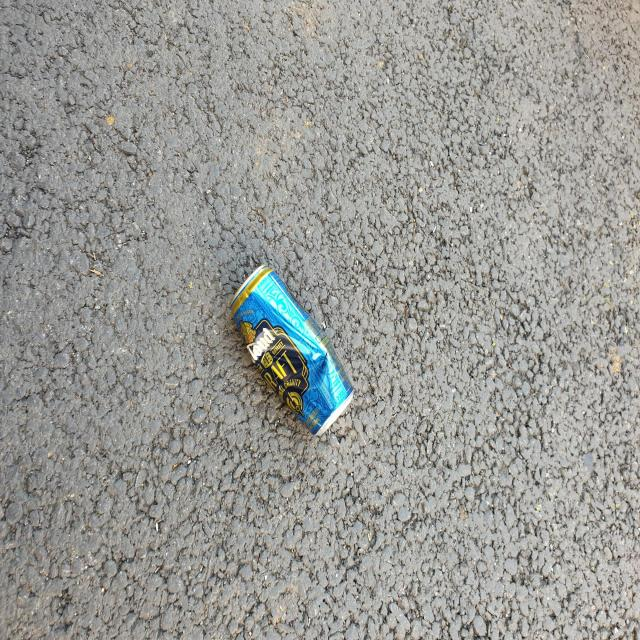can: (230, 264, 353, 436)
